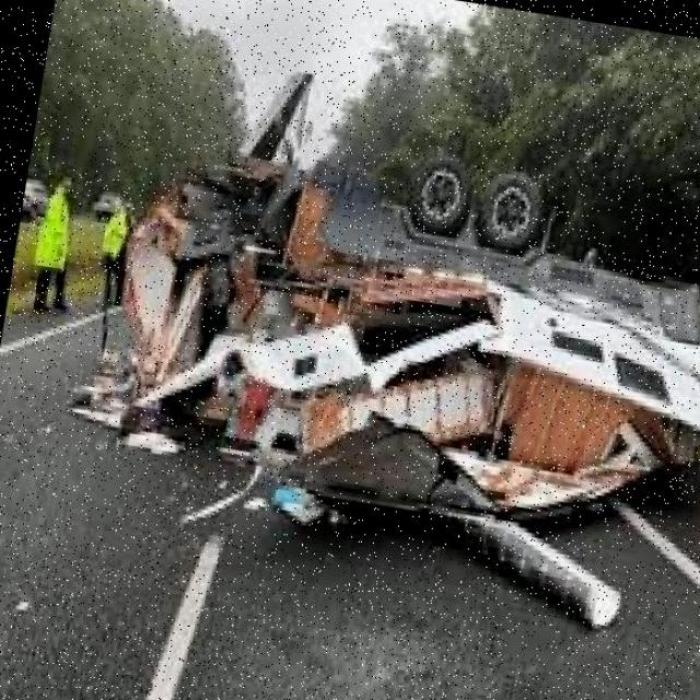Accident: (61, 100, 700, 638)
